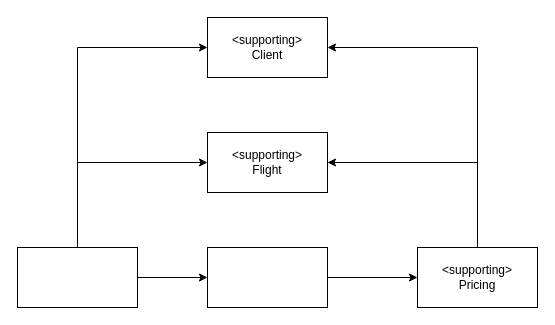
This 555x325 diagram has some shape labels left out. Each missing label, with the box of its shape:
<core> Order: (16, 246, 138, 308)
<supporting> Transaction: (206, 246, 328, 308)
